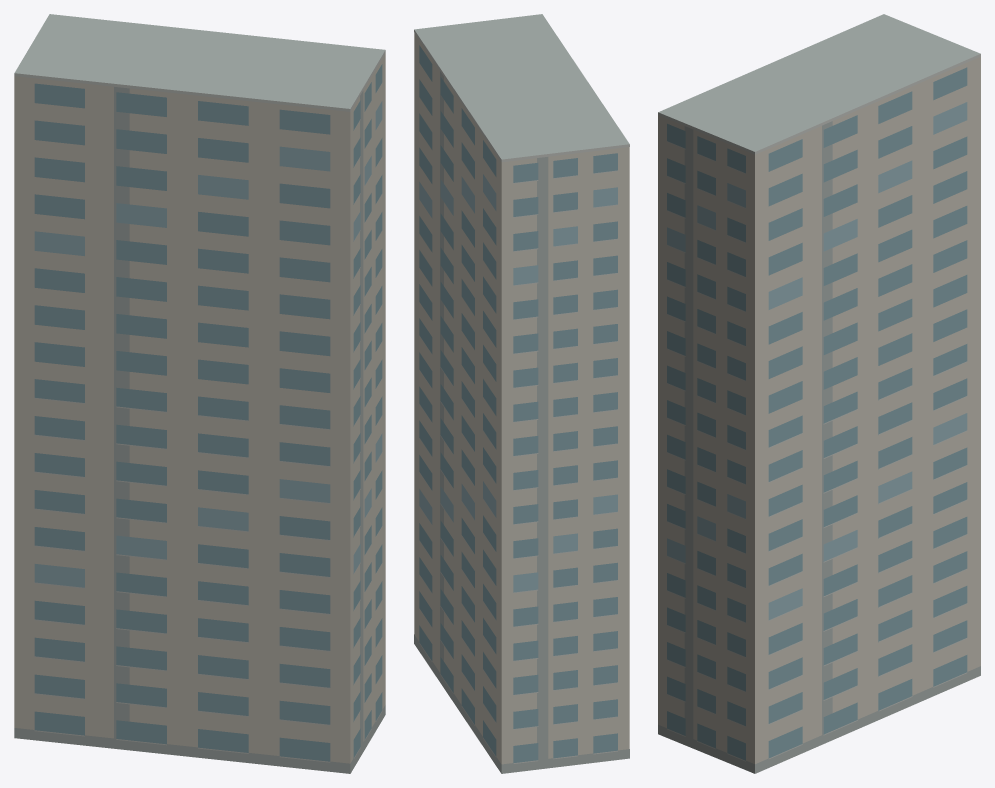
Rendered from residential-490f7c05-8f69-4fdf-b472-a02da1af42f8.glb.
The picture shows the model from 3 angles, left to right: view 1: azimuth 30°, elevation 25°; view 2: azimuth 150°, elevation 25°; view 3: azimuth 270°, elevation 25°; orthographic projection. The views are drawn at different scales.
Visible parts, largest first — view 1: residential-490f7c05-8f69-4fdf-b472-a02da1af42f8.tmp; view 2: residential-490f7c05-8f69-4fdf-b472-a02da1af42f8.tmp; view 3: residential-490f7c05-8f69-4fdf-b472-a02da1af42f8.tmp.
Part boxes in pixels (x1,y1,x2,y2): residential-490f7c05-8f69-4fdf-b472-a02da1af42f8.tmp: (14, 14, 385, 773); residential-490f7c05-8f69-4fdf-b472-a02da1af42f8.tmp: (414, 14, 629, 773); residential-490f7c05-8f69-4fdf-b472-a02da1af42f8.tmp: (658, 14, 980, 773).
Size of the model in its own units: 25.7 by 54 by 25.4.
